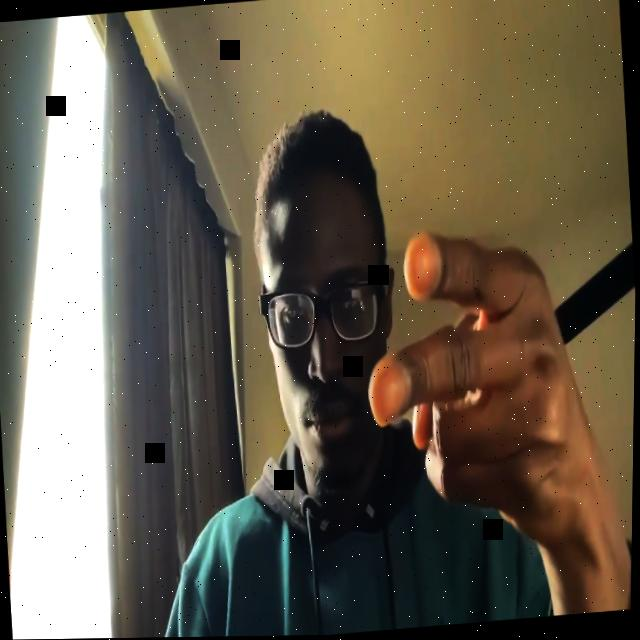Scissors: (356, 220, 606, 560)
